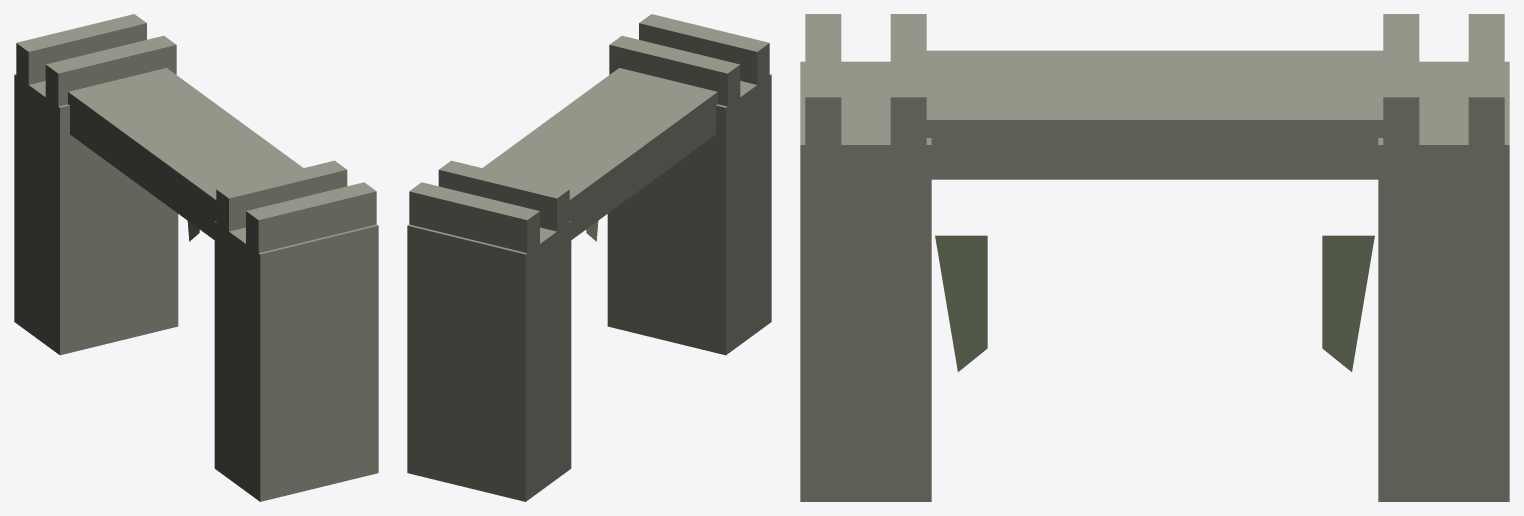
3 renders of one model, left to right at view 1: azimuth 30°, elevation 25°; view 2: azimuth 150°, elevation 25°; view 3: azimuth 270°, elevation 25°, orthographic. The views are drawn at different scales.
Visible parts, largest first — view 1: 557018efb42863d92594f61355e092149e23ac184ff885dc0cf243cd1e46; view 2: 557018efb42863d92594f61355e092149e23ac184ff885dc0cf243cd1e46; view 3: 557018efb42863d92594f61355e092149e23ac184ff885dc0cf243cd1e46.
Boxes of the visible parts, left/top/right/bottom form: 557018efb42863d92594f61355e092149e23ac184ff885dc0cf243cd1e46: left=14, top=14, right=378, bottom=501; 557018efb42863d92594f61355e092149e23ac184ff885dc0cf243cd1e46: left=407, top=14, right=771, bottom=501; 557018efb42863d92594f61355e092149e23ac184ff885dc0cf243cd1e46: left=800, top=14, right=1509, bottom=501.
Bounding box in the file's own units: 3.05 × 6.8 × 10.8.
